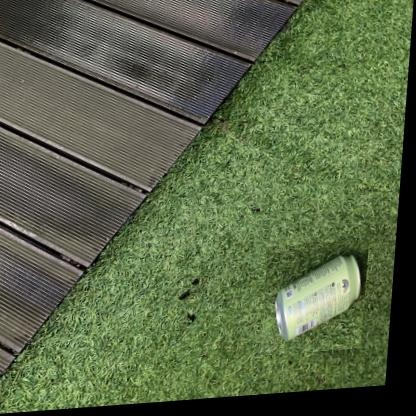trash: (275, 255, 360, 339)
